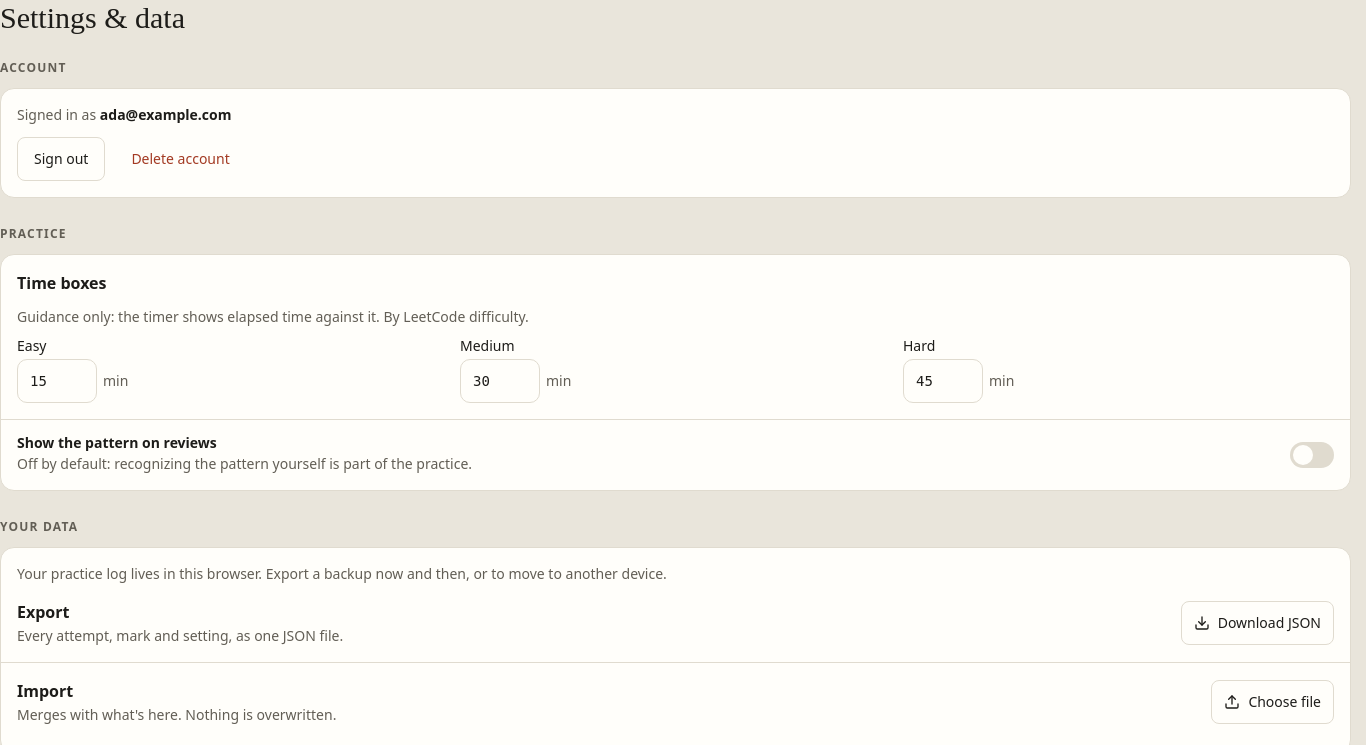
SettingsPage account › keeps the account and says so when deleting fails
This screenshot has width=1366, height=745.
What coordinates should you click on to do the following:
click the button "Delete account"
I would click on:
 (181, 159)
Its box is [115,137,246,181].
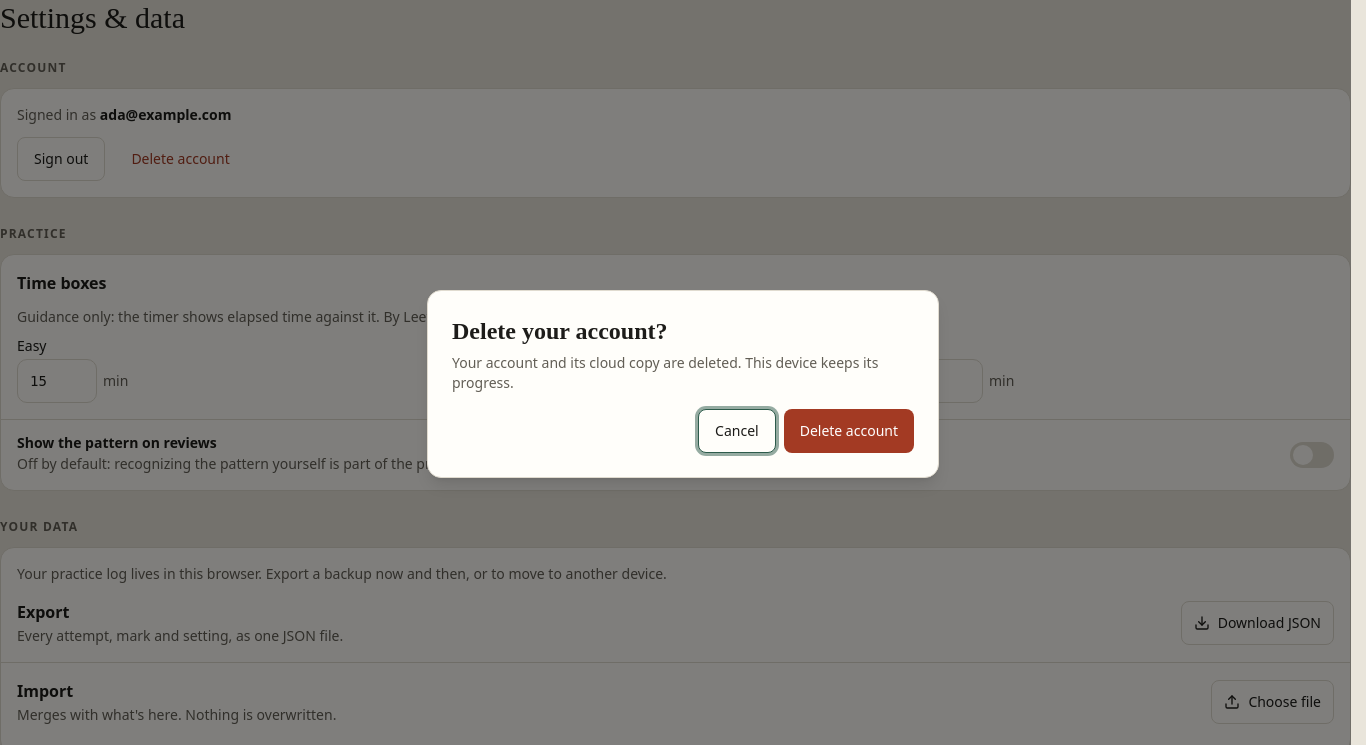
What coordinates should you click on to do the following:
click the button "Delete account"
I would click on:
 (849, 431)
Its box is [784,409,914,453].
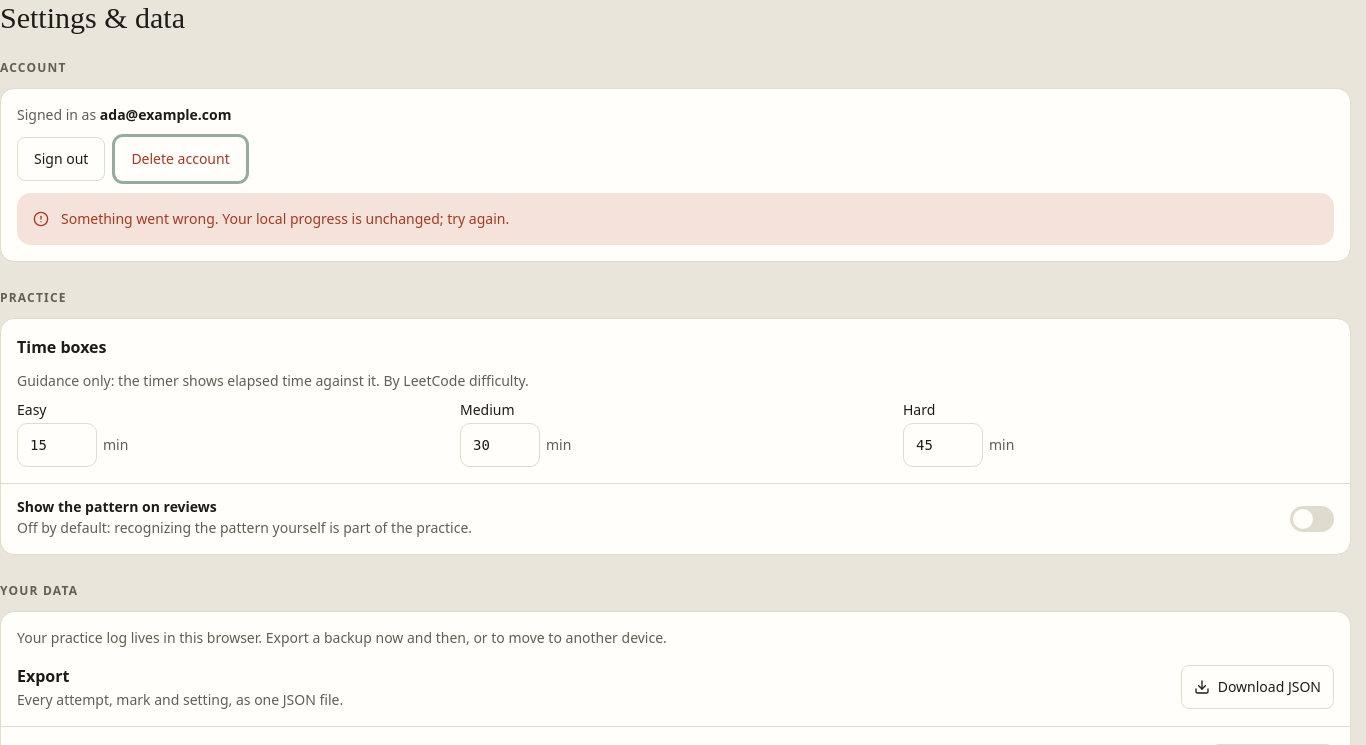
Expected: the text "ada@example.com" is shown, [100,105,231,124]
Expected: the message shows "Something went wrong", [61,209,509,228]
